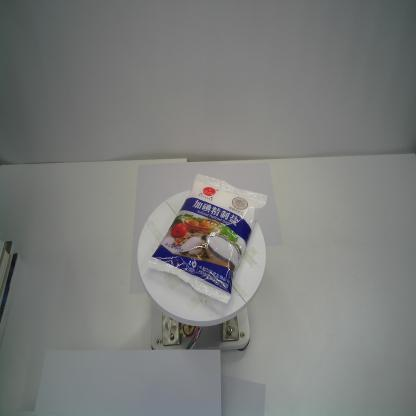Seasoner: (145, 173, 268, 306)
